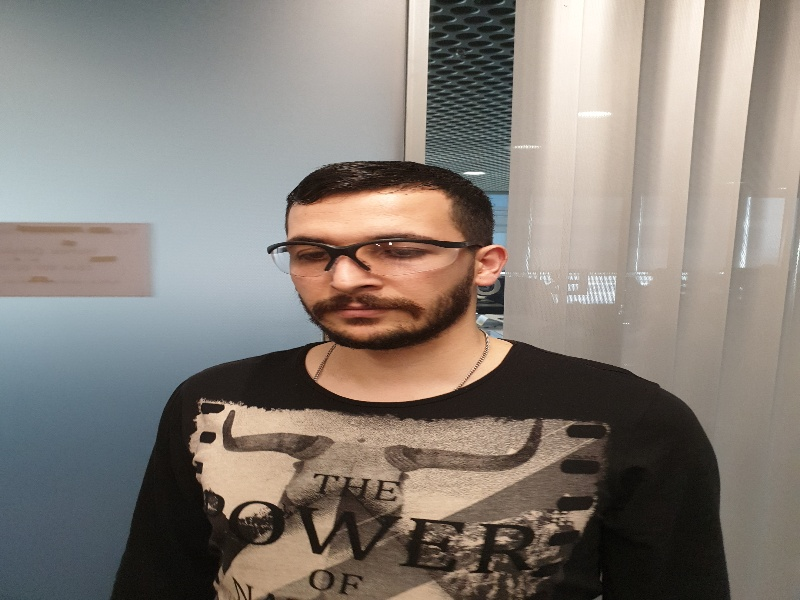Gozluk: (267, 237, 467, 271)
